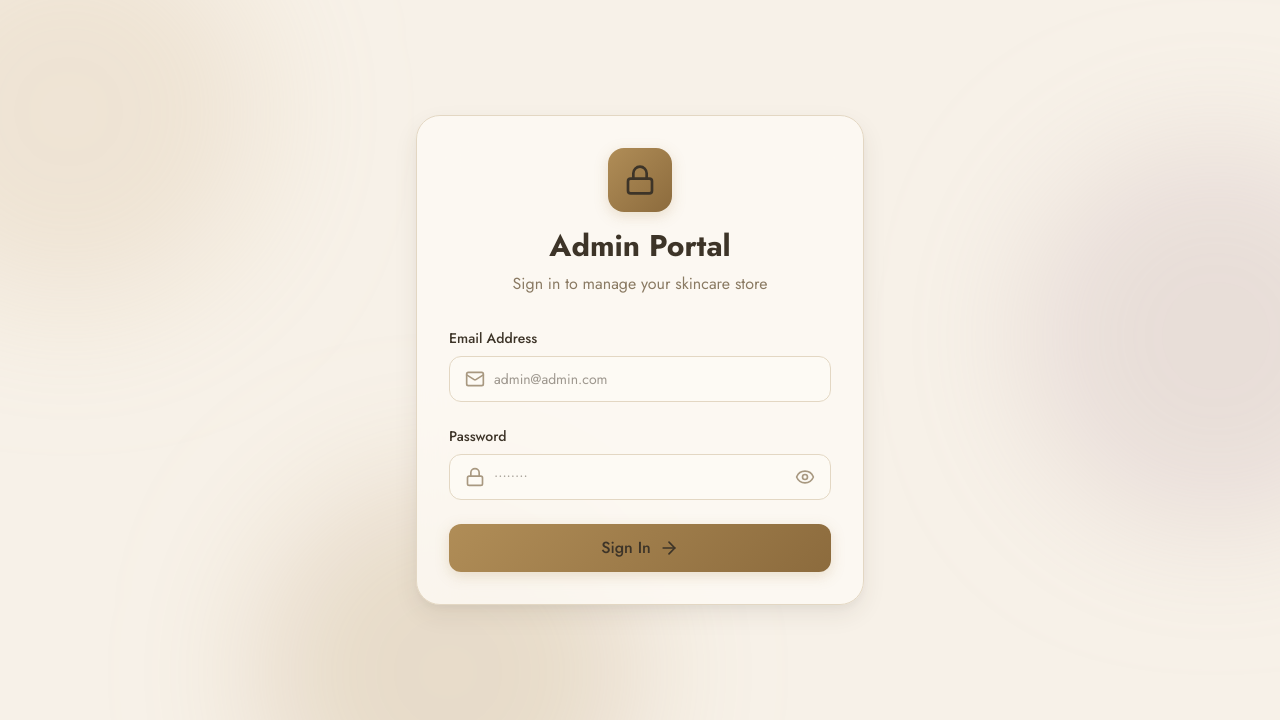
Scenario: Admin Login Flow E2E › should show validation errors when submitting empty form
Click the submit button at (640, 548), box [449,524,831,572]
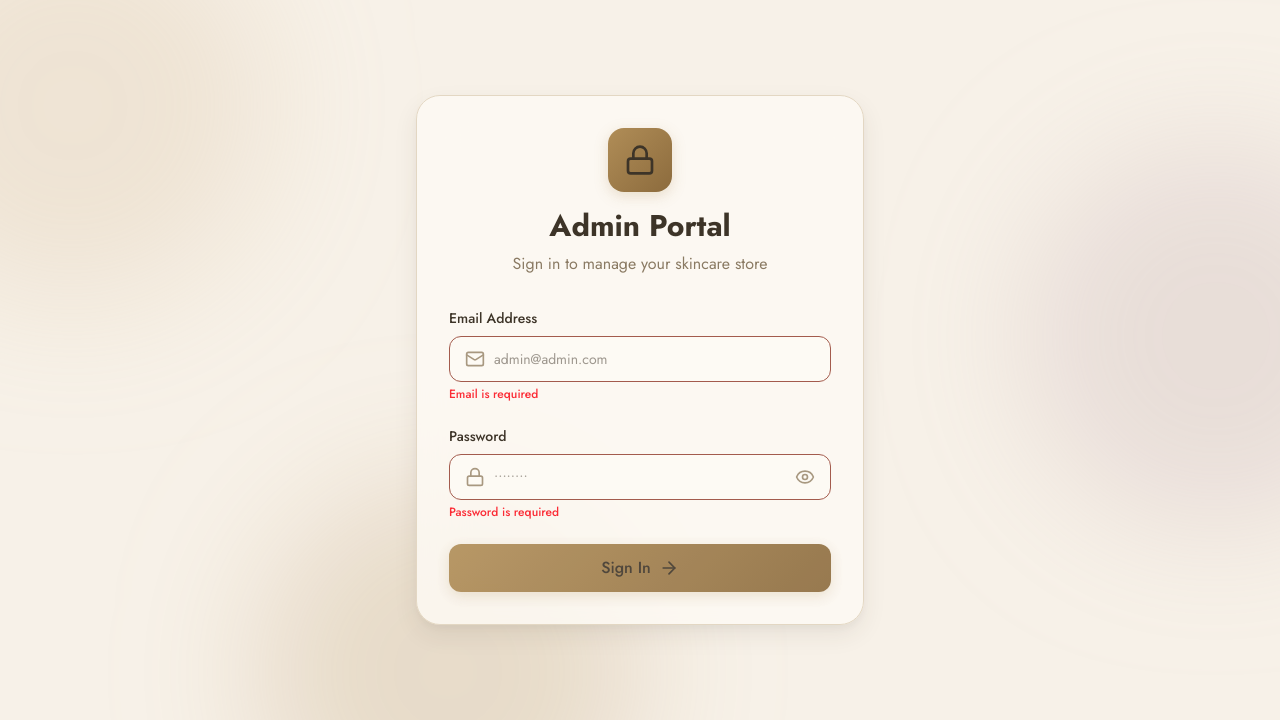
Expected: the text "Email is required" is shown, [449,385,538,403]
Expected: the text "Password is required" is shown, [449,503,559,521]
